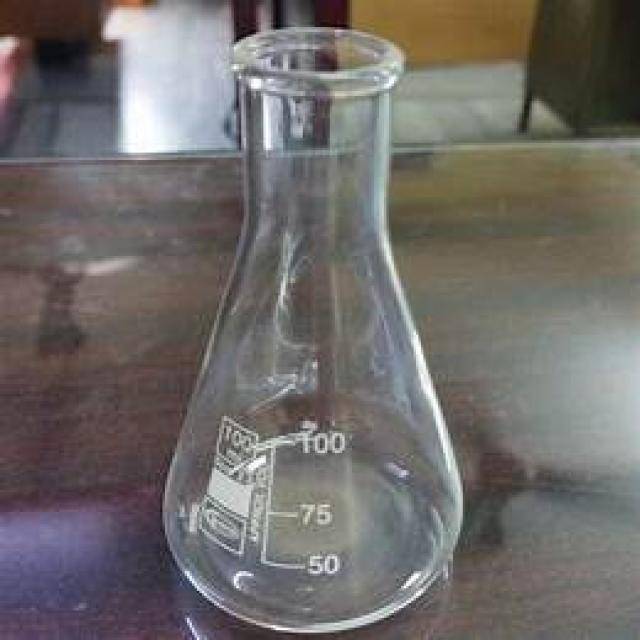Titrarion: (146, 21, 471, 630)
